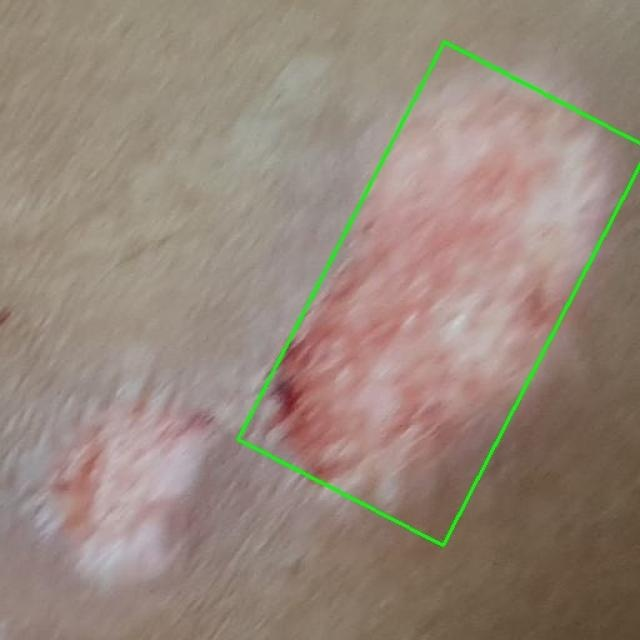Eczema: (238, 42, 640, 545)
